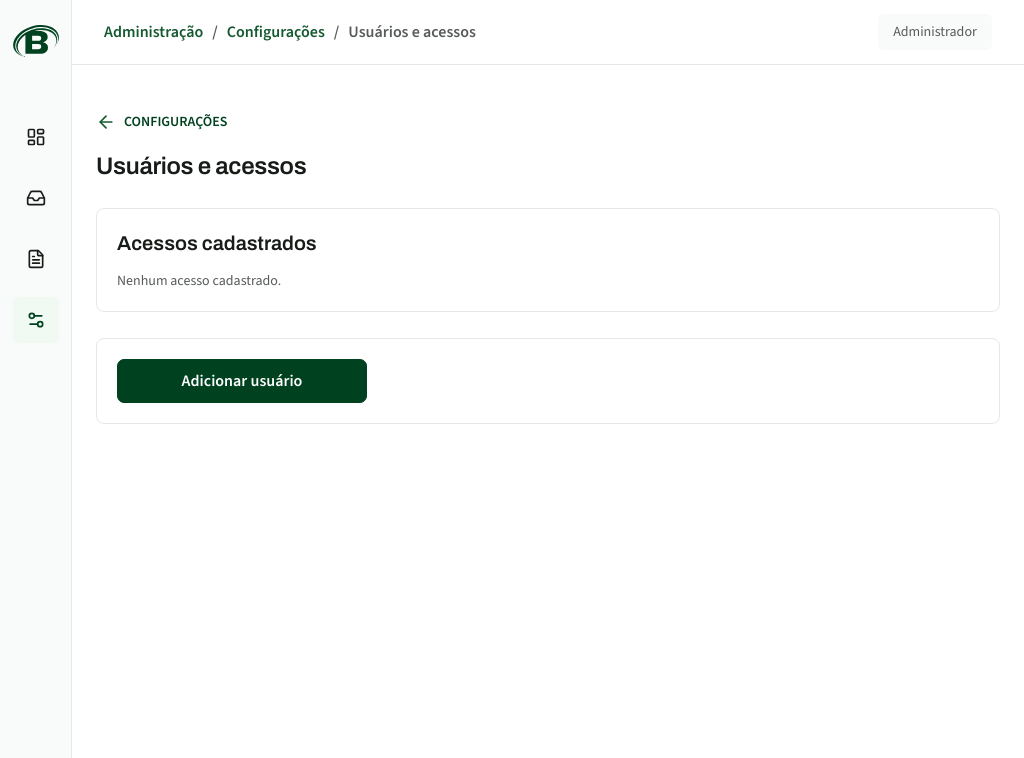
Test: ADM-12 — formulário de criação de usuário › cancela o cadastro sem enviar dados à API
Step 1. Click the button "Adicionar usuário" → coordinates (242, 381), box [117,359,367,403]
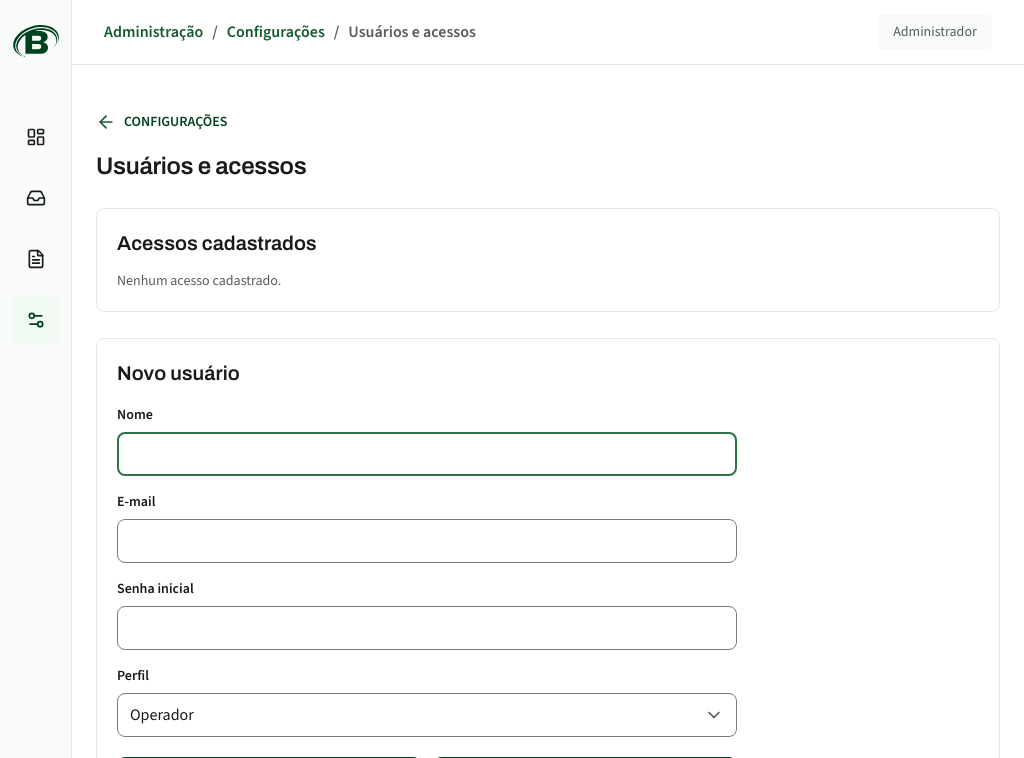
Step 2. Type "Usuário Fictício" into the field labelled "Nome" → coordinates (427, 454), box [117,432,737,476]
(page scrolled)
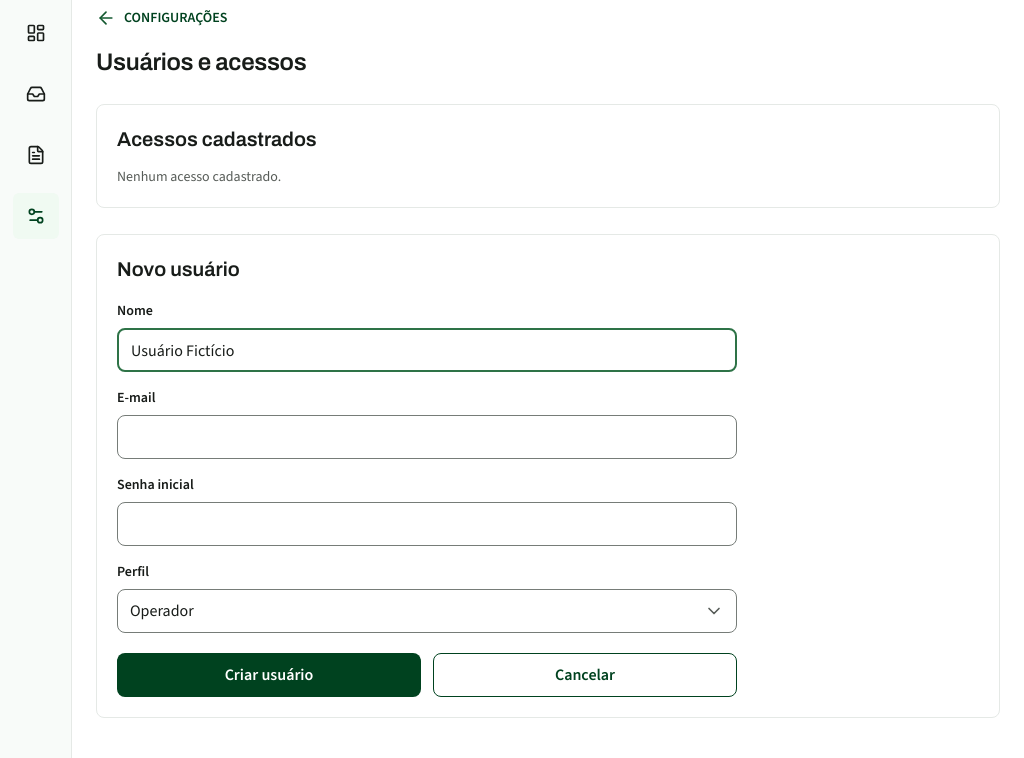
Step 3. Click the button "Cancelar" → coordinates (585, 675), box [433,653,737,697]
(page scrolled)
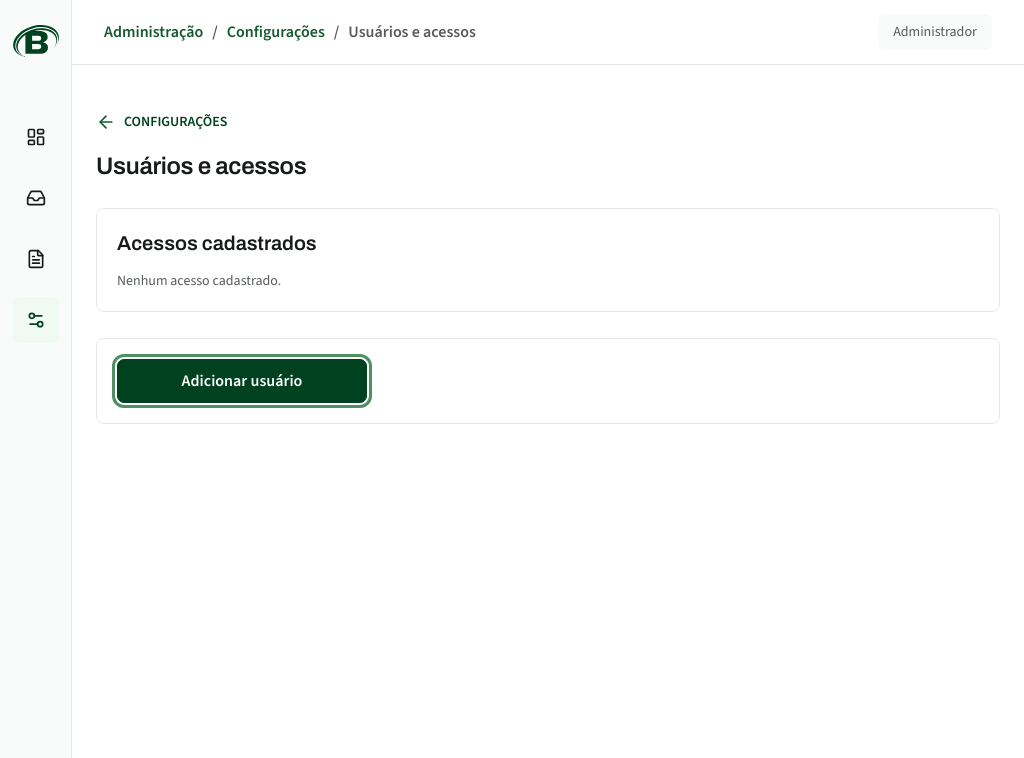
Expected: the heading "Novo usuário" is gone
Expected: the button "Adicionar usuário" is enabled, [117,359,367,403]
